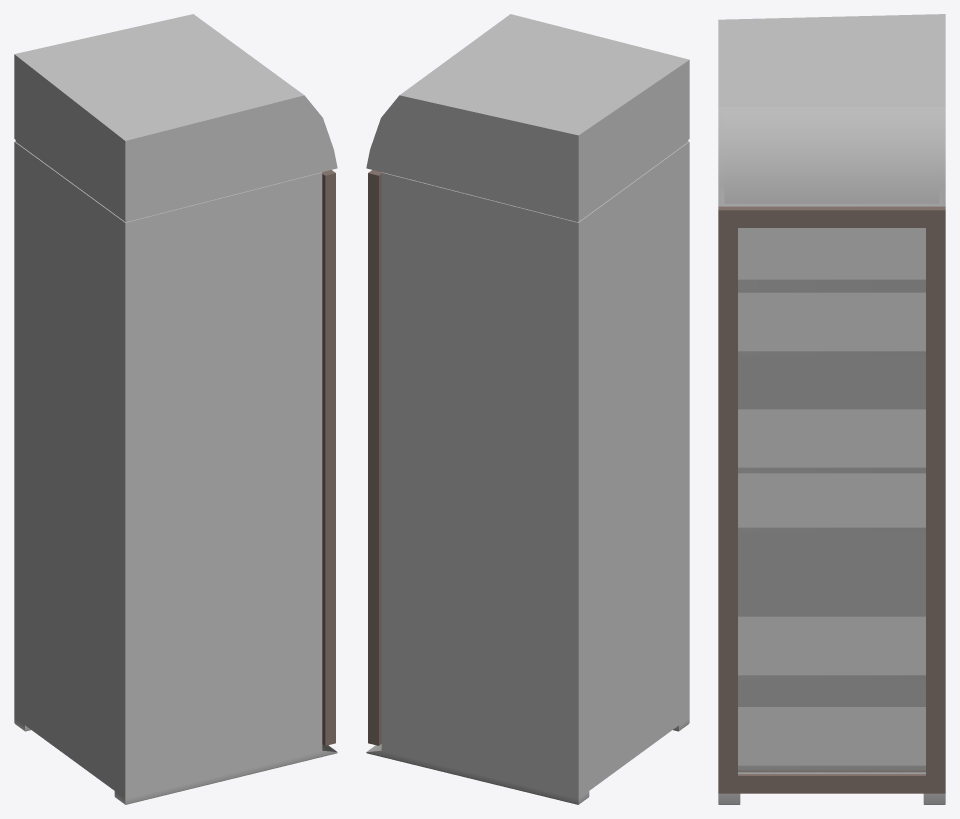
Rendered from Cooler.FBX.
The picture shows the model from 3 angles, left to right: view 1: azimuth 30°, elevation 25°; view 2: azimuth 150°, elevation 25°; view 3: azimuth 270°, elevation 25°; orthographic projection. The views are drawn at different scales.
Parts seen in each view (by area): view 1: Fridge, Door; view 2: Fridge, Door; view 3: Fridge, Glass, Door.
Boxes of the visible parts, bbox=[...] form: Fridge: bbox=[14, 14, 337, 804]; Door: bbox=[322, 170, 335, 745]; Fridge: bbox=[366, 14, 689, 804]; Door: bbox=[368, 170, 381, 745]; Fridge: bbox=[718, 14, 945, 804]; Glass: bbox=[738, 228, 925, 774]; Door: bbox=[718, 206, 945, 793].
Size of the model in its own units: 64 by 193 by 58.
